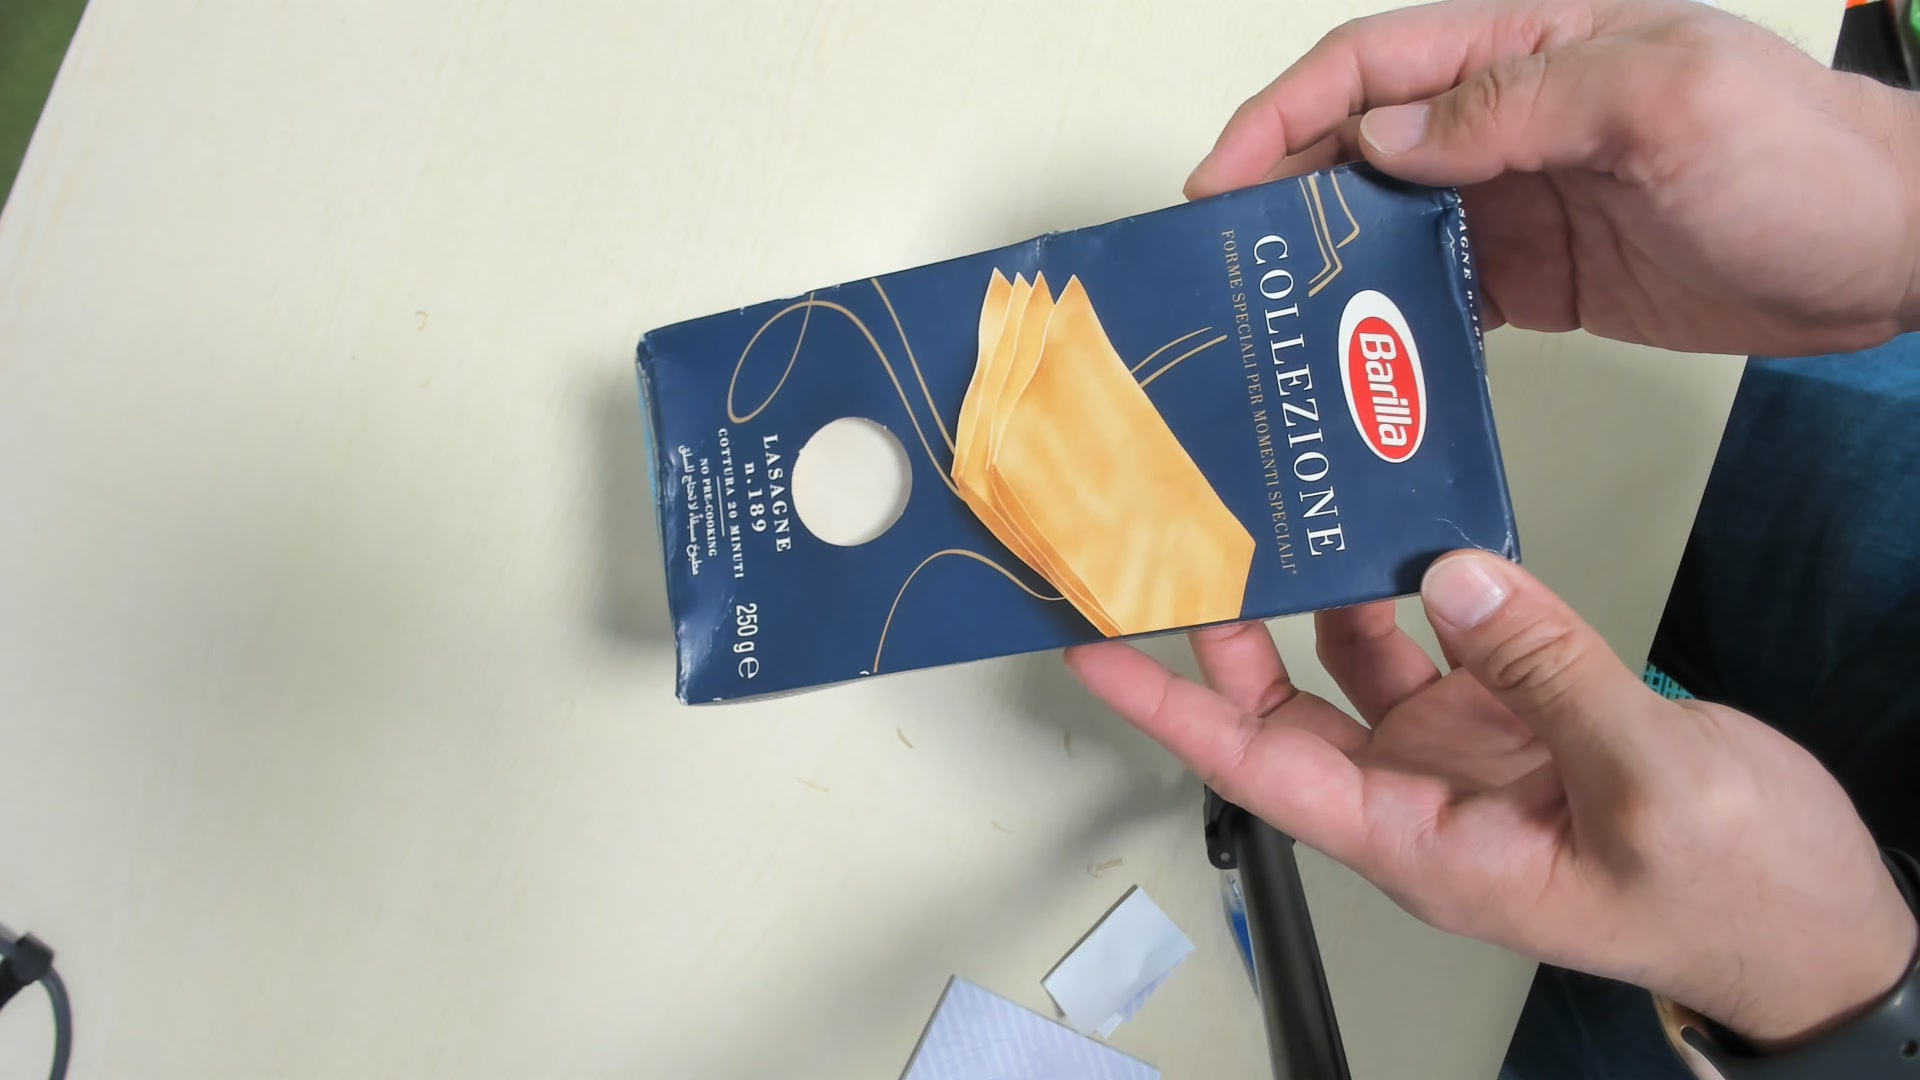InstantMeals_200_299g_NonHalal_NonHealthy: (624, 160, 1520, 717)
